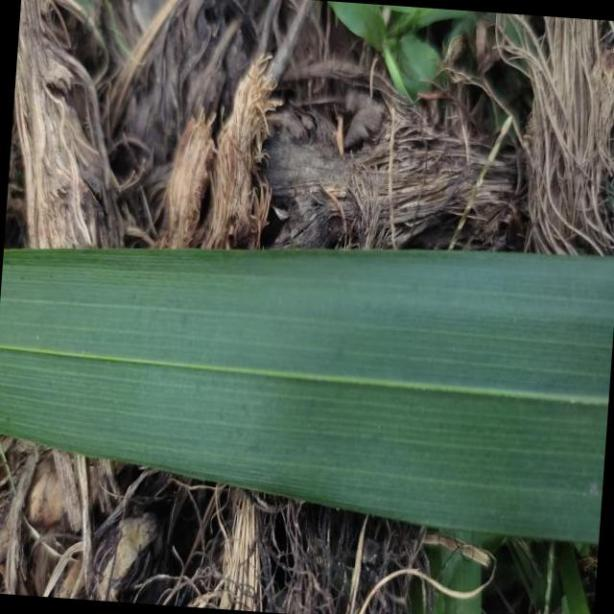Healthy: (1, 246, 614, 548)
